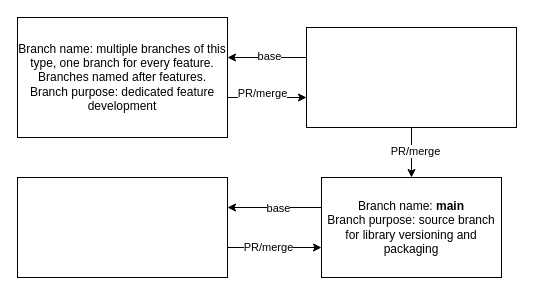
Some shapes in this 534 by 295 pixel diagram are drawn without their labels. The shapes that lost their labels are listed below. From the top down, each one's box as (x1, y1, x2, y2) in pixels, then its label:
(306, 26, 516, 128): Branch name: dev Branch purpose: active library development
(16, 176, 228, 278): Branch name: python-wrap Branch purpose: wrapping C++ library with python C-API
